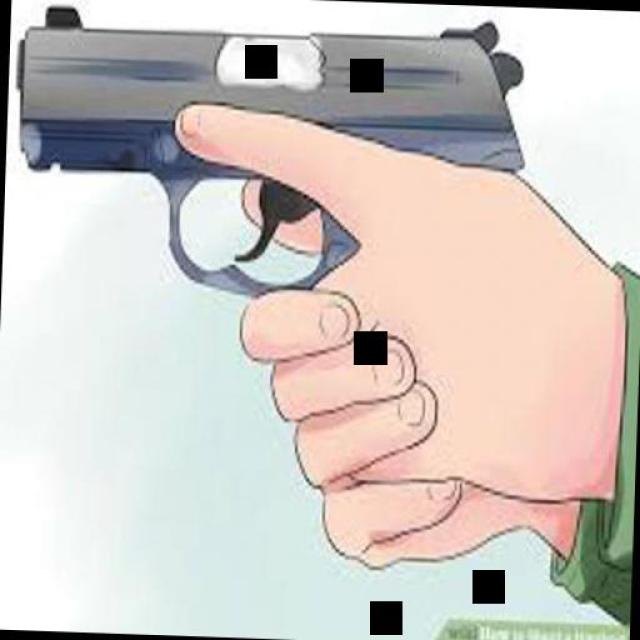gun: (9, 0, 539, 301)
